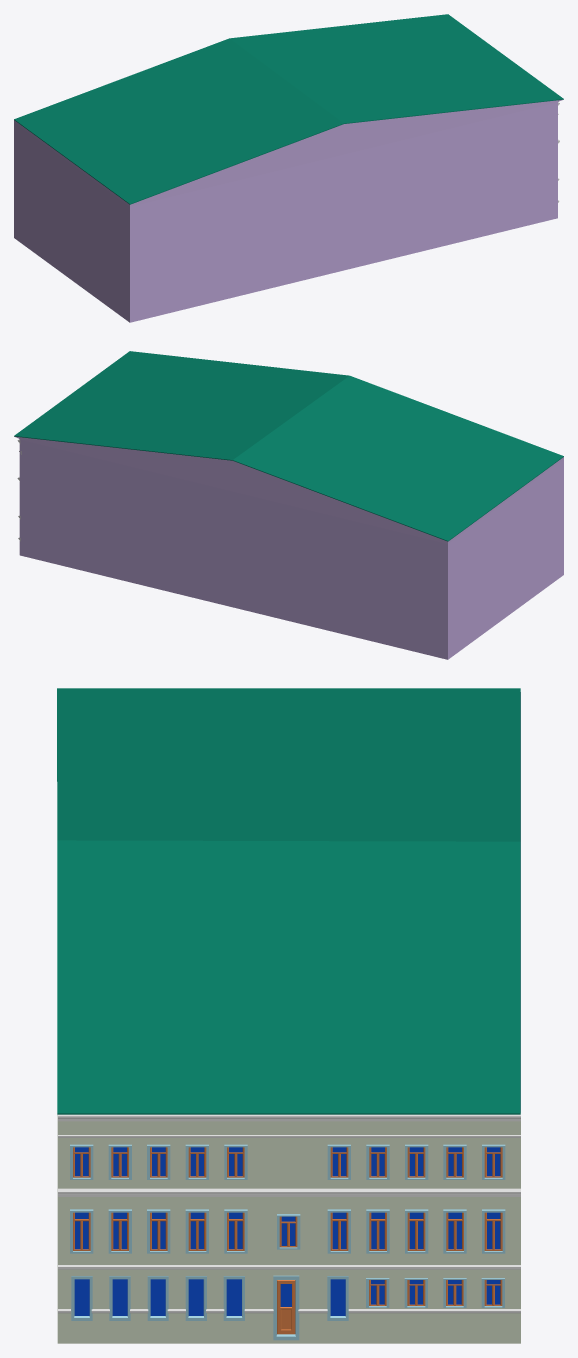
The model's file is Building_01_02.fbx.
3 renders of one model, top to bottom at view 1: azimuth 30°, elevation 25°; view 2: azimuth 150°, elevation 25°; view 3: azimuth 270°, elevation 25°, orthographic. The views are drawn at different scales.
Parts seen in each view (by area): view 1: 0_Corpus.003; view 2: 0_Corpus.003; view 3: 0_Corpus.003, Window 4 arr.011, Window 4 arr.014, Window 5.013, Window 4 arr.026, Window 4 arr.025, BalconyBelt.024, BalconyBelt.026, Window 4 arr.028, BalconyBelt.023, Doors.001, BalconyBelt.025 (+3 smaller).
Part boxes in pixels (bbox=[...]): 0_Corpus.003: bbox=[14, 14, 563, 322]; 0_Corpus.003: bbox=[14, 351, 563, 659]; 0_Corpus.003: bbox=[57, 688, 520, 1343]; Window 4 arr.011: bbox=[70, 1209, 247, 1253]; Window 4 arr.014: bbox=[327, 1209, 505, 1253]; Window 5.013: bbox=[71, 1276, 244, 1320]; Window 4 arr.026: bbox=[327, 1144, 505, 1179]; Window 4 arr.025: bbox=[70, 1144, 247, 1179]; BalconyBelt.024: bbox=[58, 1188, 520, 1196]; BalconyBelt.026: bbox=[58, 1113, 520, 1121]; Window 4 arr.028: bbox=[366, 1278, 504, 1307]; BalconyBelt.023: bbox=[58, 1265, 520, 1269]; Doors.001: bbox=[273, 1275, 299, 1340]; BalconyBelt.025: bbox=[58, 1135, 520, 1137].
Size of the model in its own units: 13041 by 4225 by 6038.
